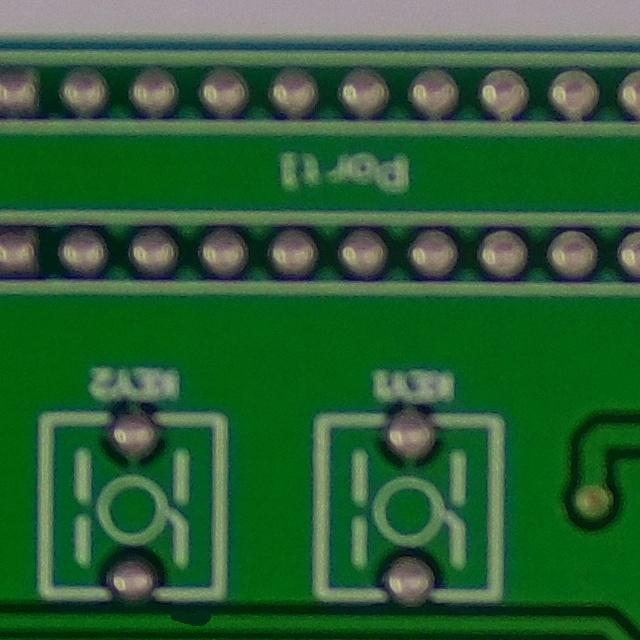mouse_bite: (148, 595, 230, 639)
